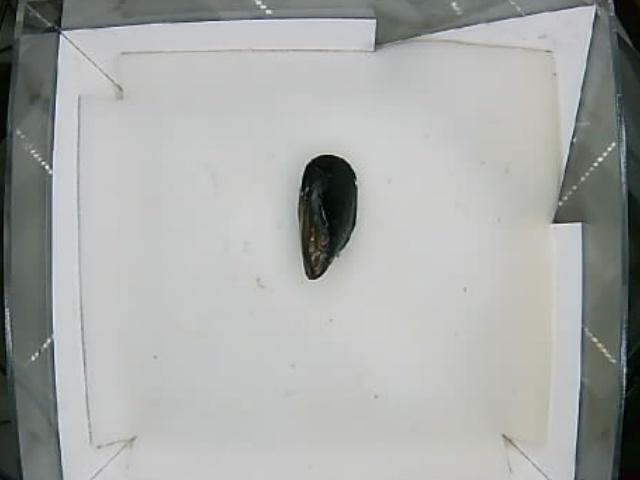Shell: (300, 155, 359, 281)
